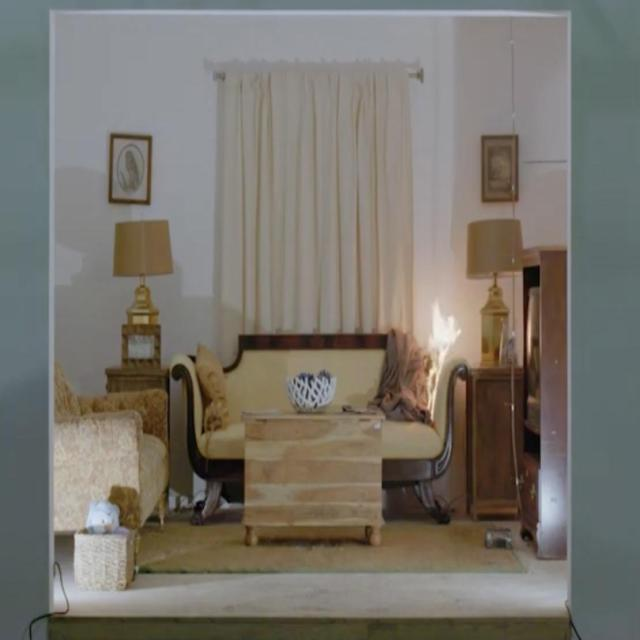smoke: (411, 302, 466, 419)
